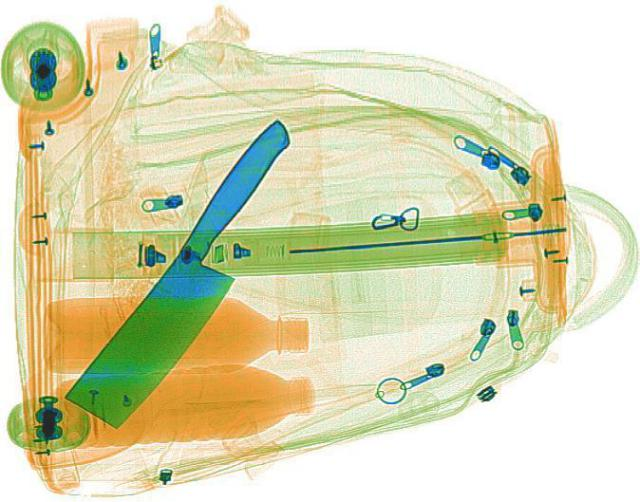Knife: (40, 117, 354, 429)
